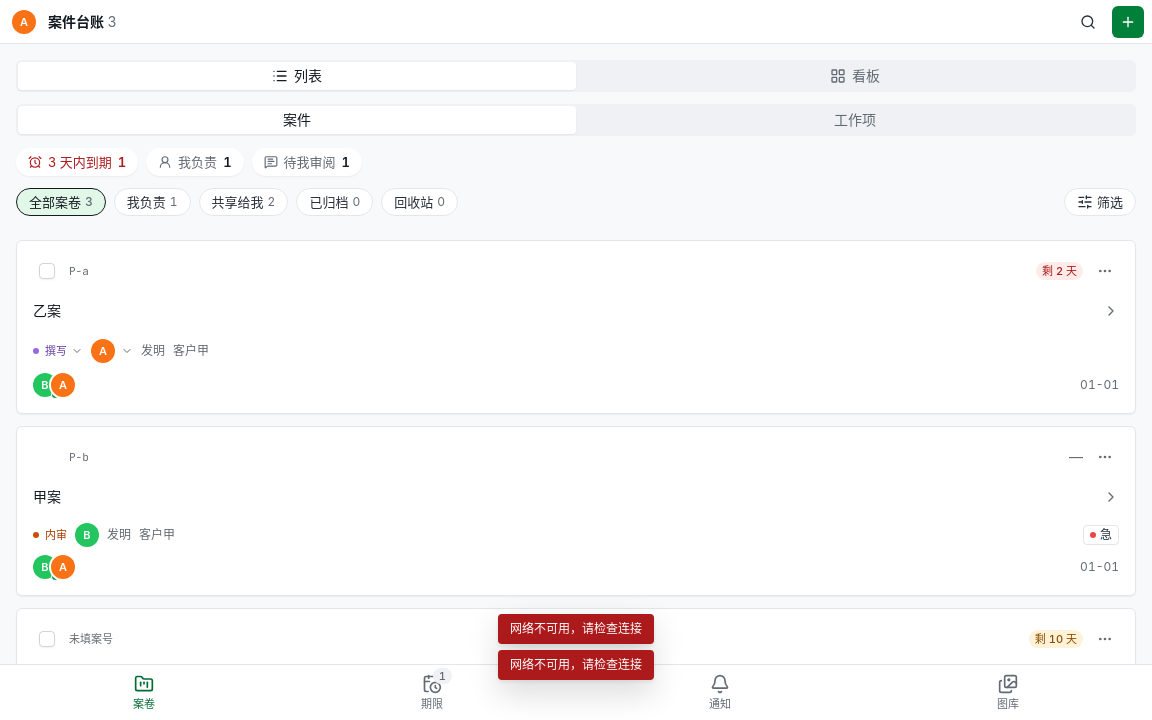
375 › 筛选 Sheet 内「状态 / 标签」折叠开关与项同为 44（min-h-touch），不再是左栏的 sm 32（W12 R12-01）
Click the button with test id "filter-sheet-trigger" at [1100, 202], box 1064,188 -> 1136,216
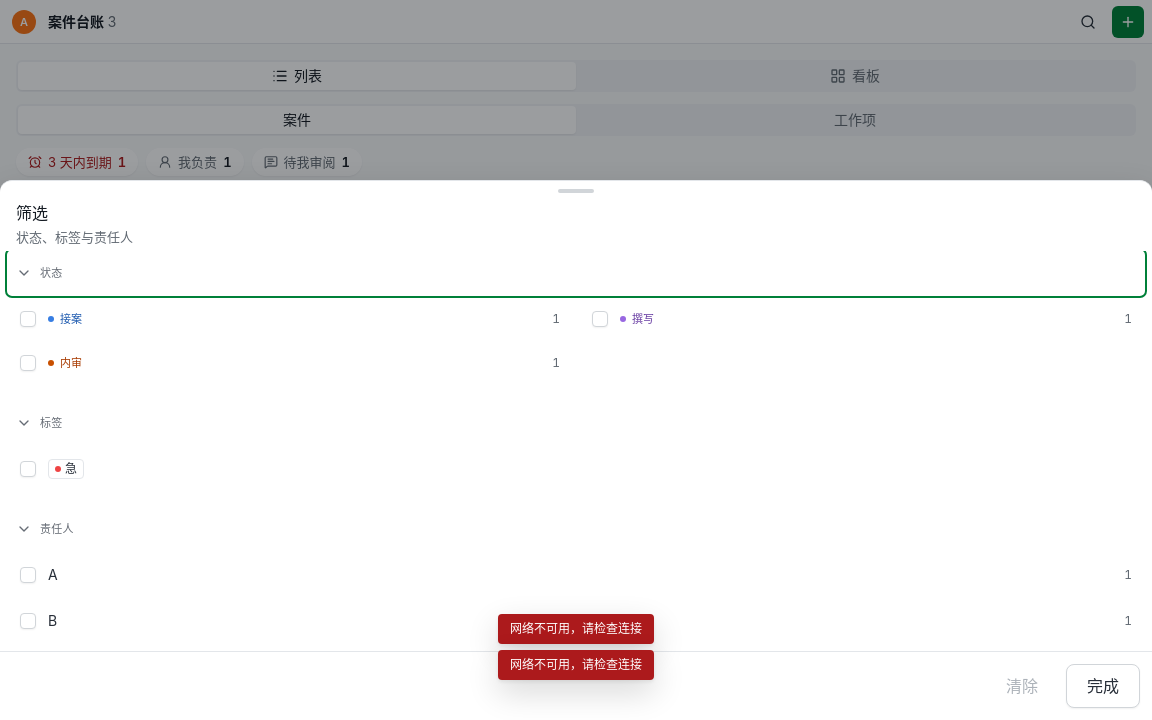
Result: the button with test id "filter-section-状态" is shown
Click the button with test id "filter-section-状态" at [24, 273], box 8,251 -> 1144,295
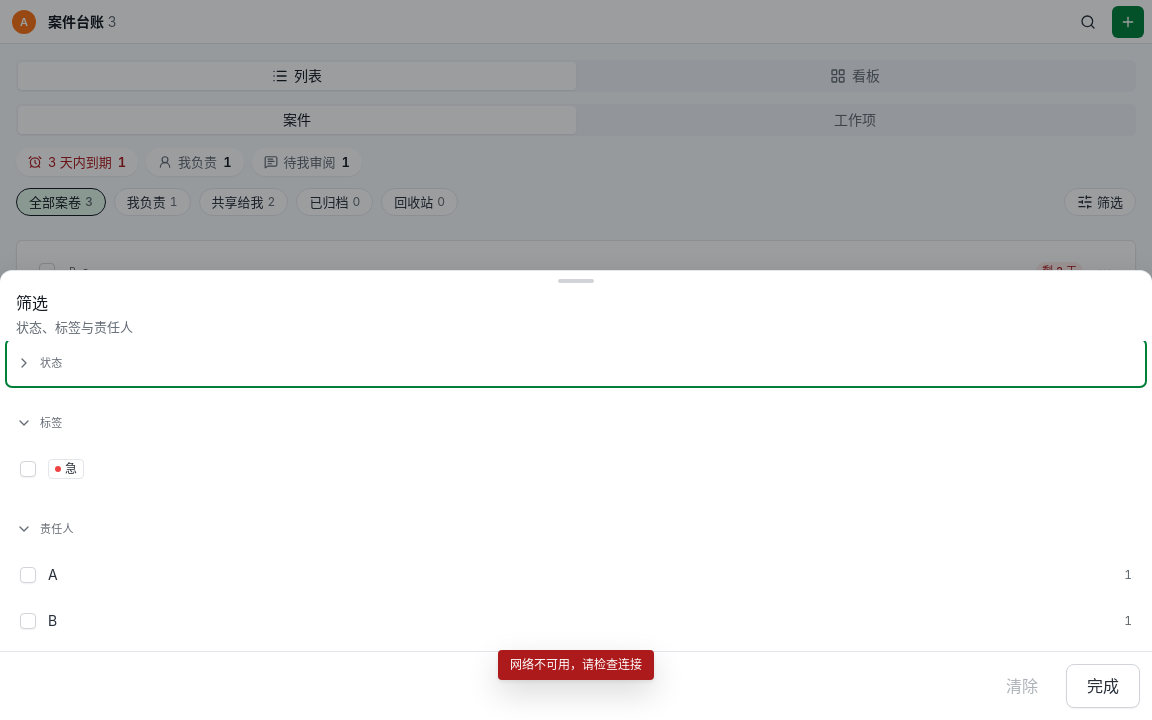
Result: the checkbox with test id "status-filter-review" is gone
